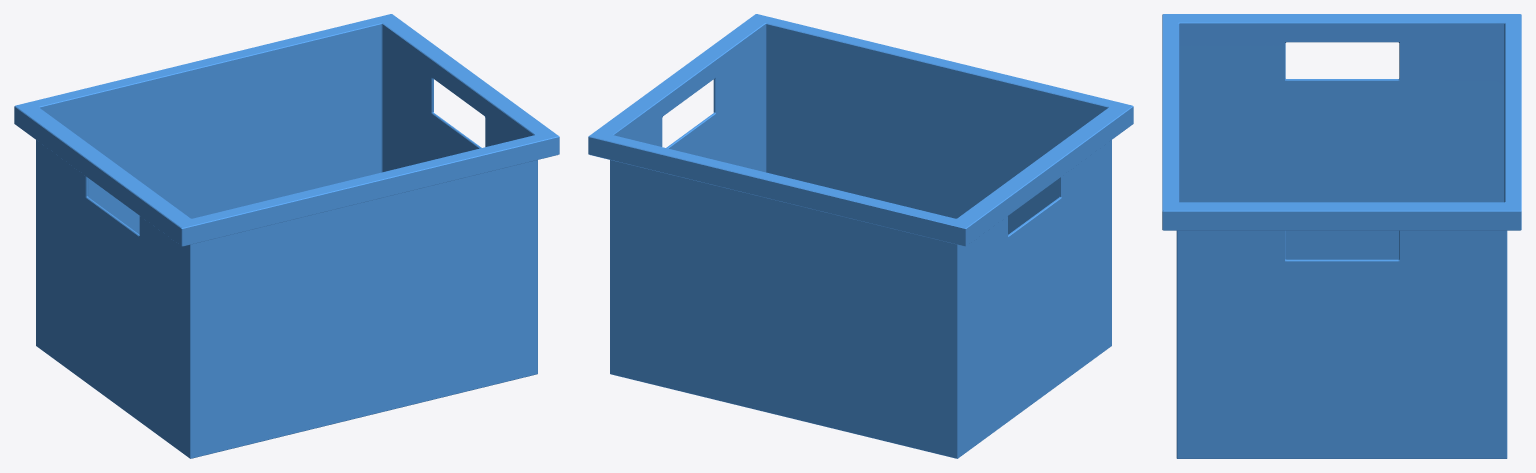
Rendered from Container.fbx.
The picture shows the model from 3 angles, left to right: view 1: azimuth 30°, elevation 25°; view 2: azimuth 150°, elevation 25°; view 3: azimuth 270°, elevation 25°; orthographic projection. The views are drawn at different scales.
Parts seen in each view (by area): view 1: Container; view 2: Container; view 3: Container.
Part boxes in pixels (x1,y1,x2,y2): Container: [14, 14, 559, 458]; Container: [588, 14, 1133, 458]; Container: [1162, 14, 1521, 458].
Size of the model in its own units: 64.24 by 38.86 by 49.42.
